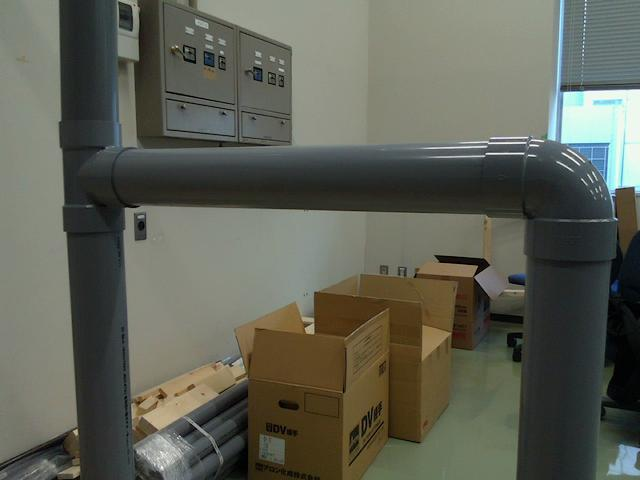bent: (482, 136, 618, 265)
junction: (57, 120, 142, 235)
